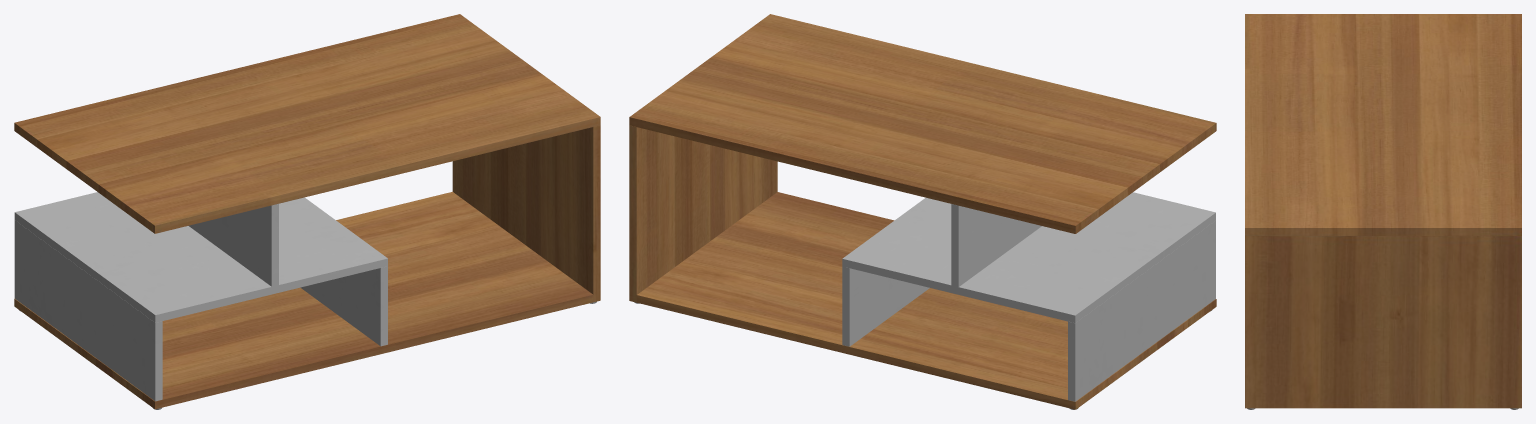
Rendered from Table.glb.
The picture shows the model from 3 angles, left to right: view 1: azimuth 30°, elevation 25°; view 2: azimuth 150°, elevation 25°; view 3: azimuth 270°, elevation 25°; orthographic projection.
Visible parts, largest first — view 1: tea table001; view 2: tea table001; view 3: tea table001.
Part boxes in pixels (x1,y1,x2,y2): tea table001: (14, 14, 600, 409); tea table001: (629, 14, 1216, 409); tea table001: (1245, 14, 1521, 409).
Bounding box in the file's own units: 0.9145 × 0.3649 × 0.5.
1 material, 1 textured.
